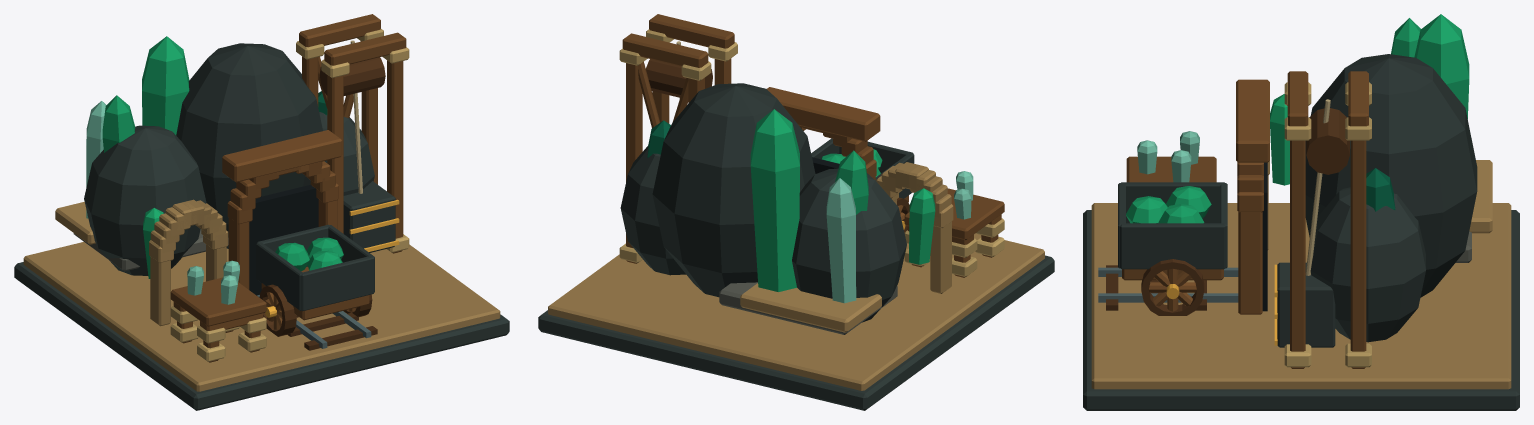
The picture shows the model from 3 angles, left to right: view 1: azimuth 30°, elevation 25°; view 2: azimuth 150°, elevation 25°; view 3: azimuth 270°, elevation 25°; orthographic projection. The views are drawn at different scales.
Visible parts, largest first — view 1: gem_mine_6_structure, gem_mine_6_metal; view 2: gem_mine_6_structure; view 3: gem_mine_6_structure, gem_mine_6_metal.
Boxes of the visible parts, bbox=[...] form: gem_mine_6_structure: bbox=[14, 14, 509, 410]; gem_mine_6_metal: bbox=[265, 199, 399, 317]; gem_mine_6_structure: bbox=[538, 14, 1054, 410]; gem_mine_6_structure: bbox=[1083, 14, 1519, 410]; gem_mine_6_metal: bbox=[1166, 264, 1277, 345].
Size of the model in its own units: 3.6 by 2.62 by 3.6.
